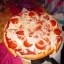pepperoni: (35, 39, 50, 50), (23, 38, 35, 48), (8, 40, 17, 50), (11, 16, 22, 24), (48, 19, 58, 27), (52, 27, 60, 37), (16, 30, 25, 36)
pizza: (6, 12, 59, 56)
